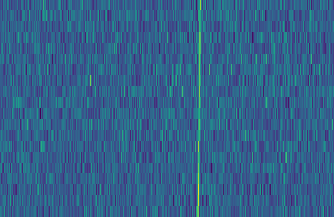signal: (193, 0, 204, 217)
